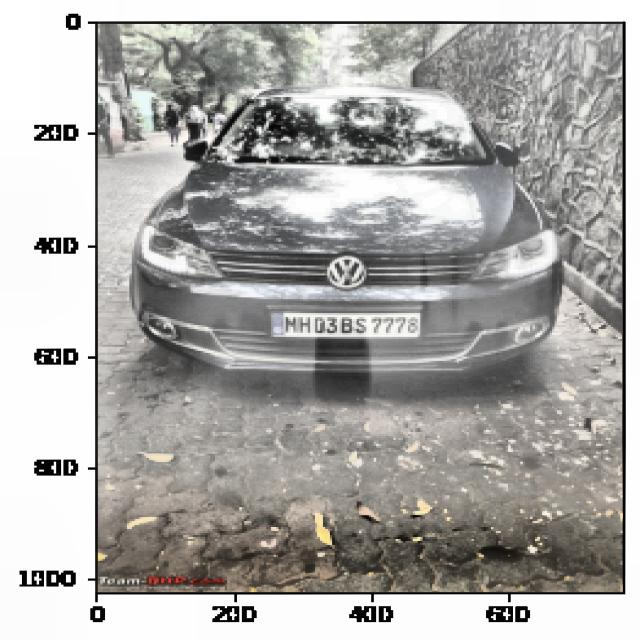license_plate: (279, 310, 428, 342)
